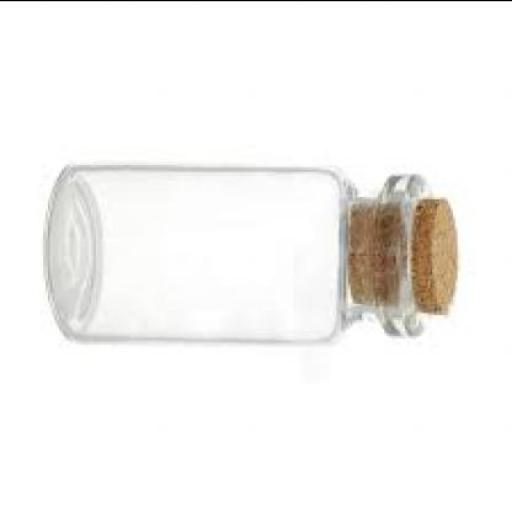glass: (50, 166, 430, 339)
